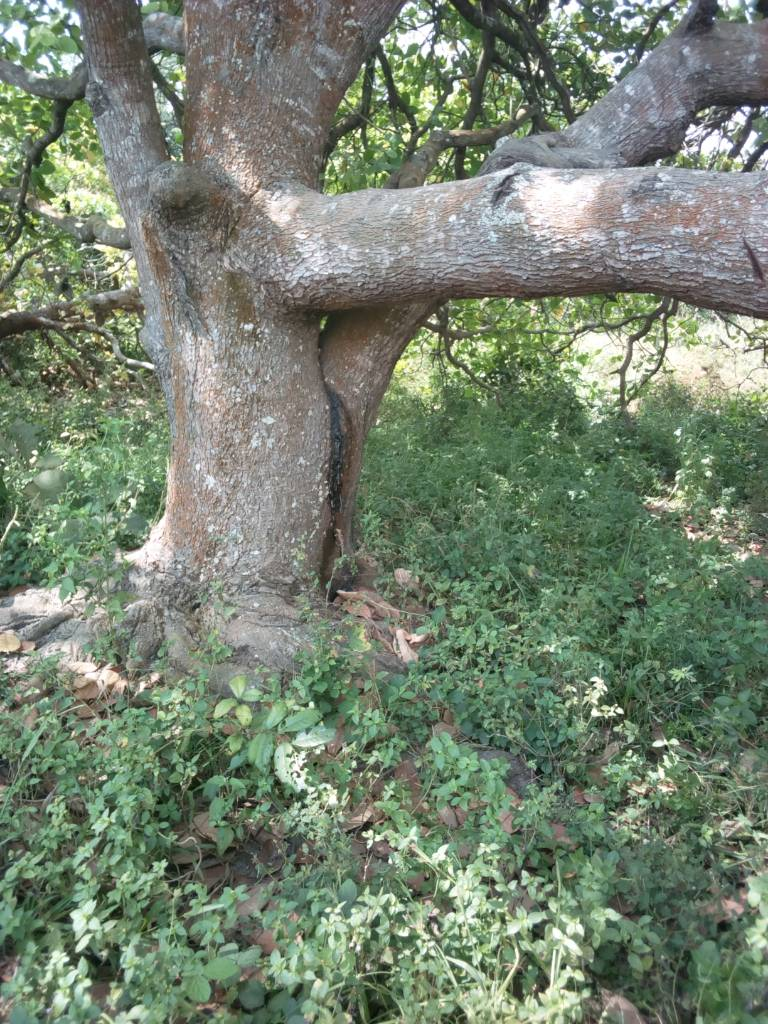Gommose: (324, 386, 352, 522)
